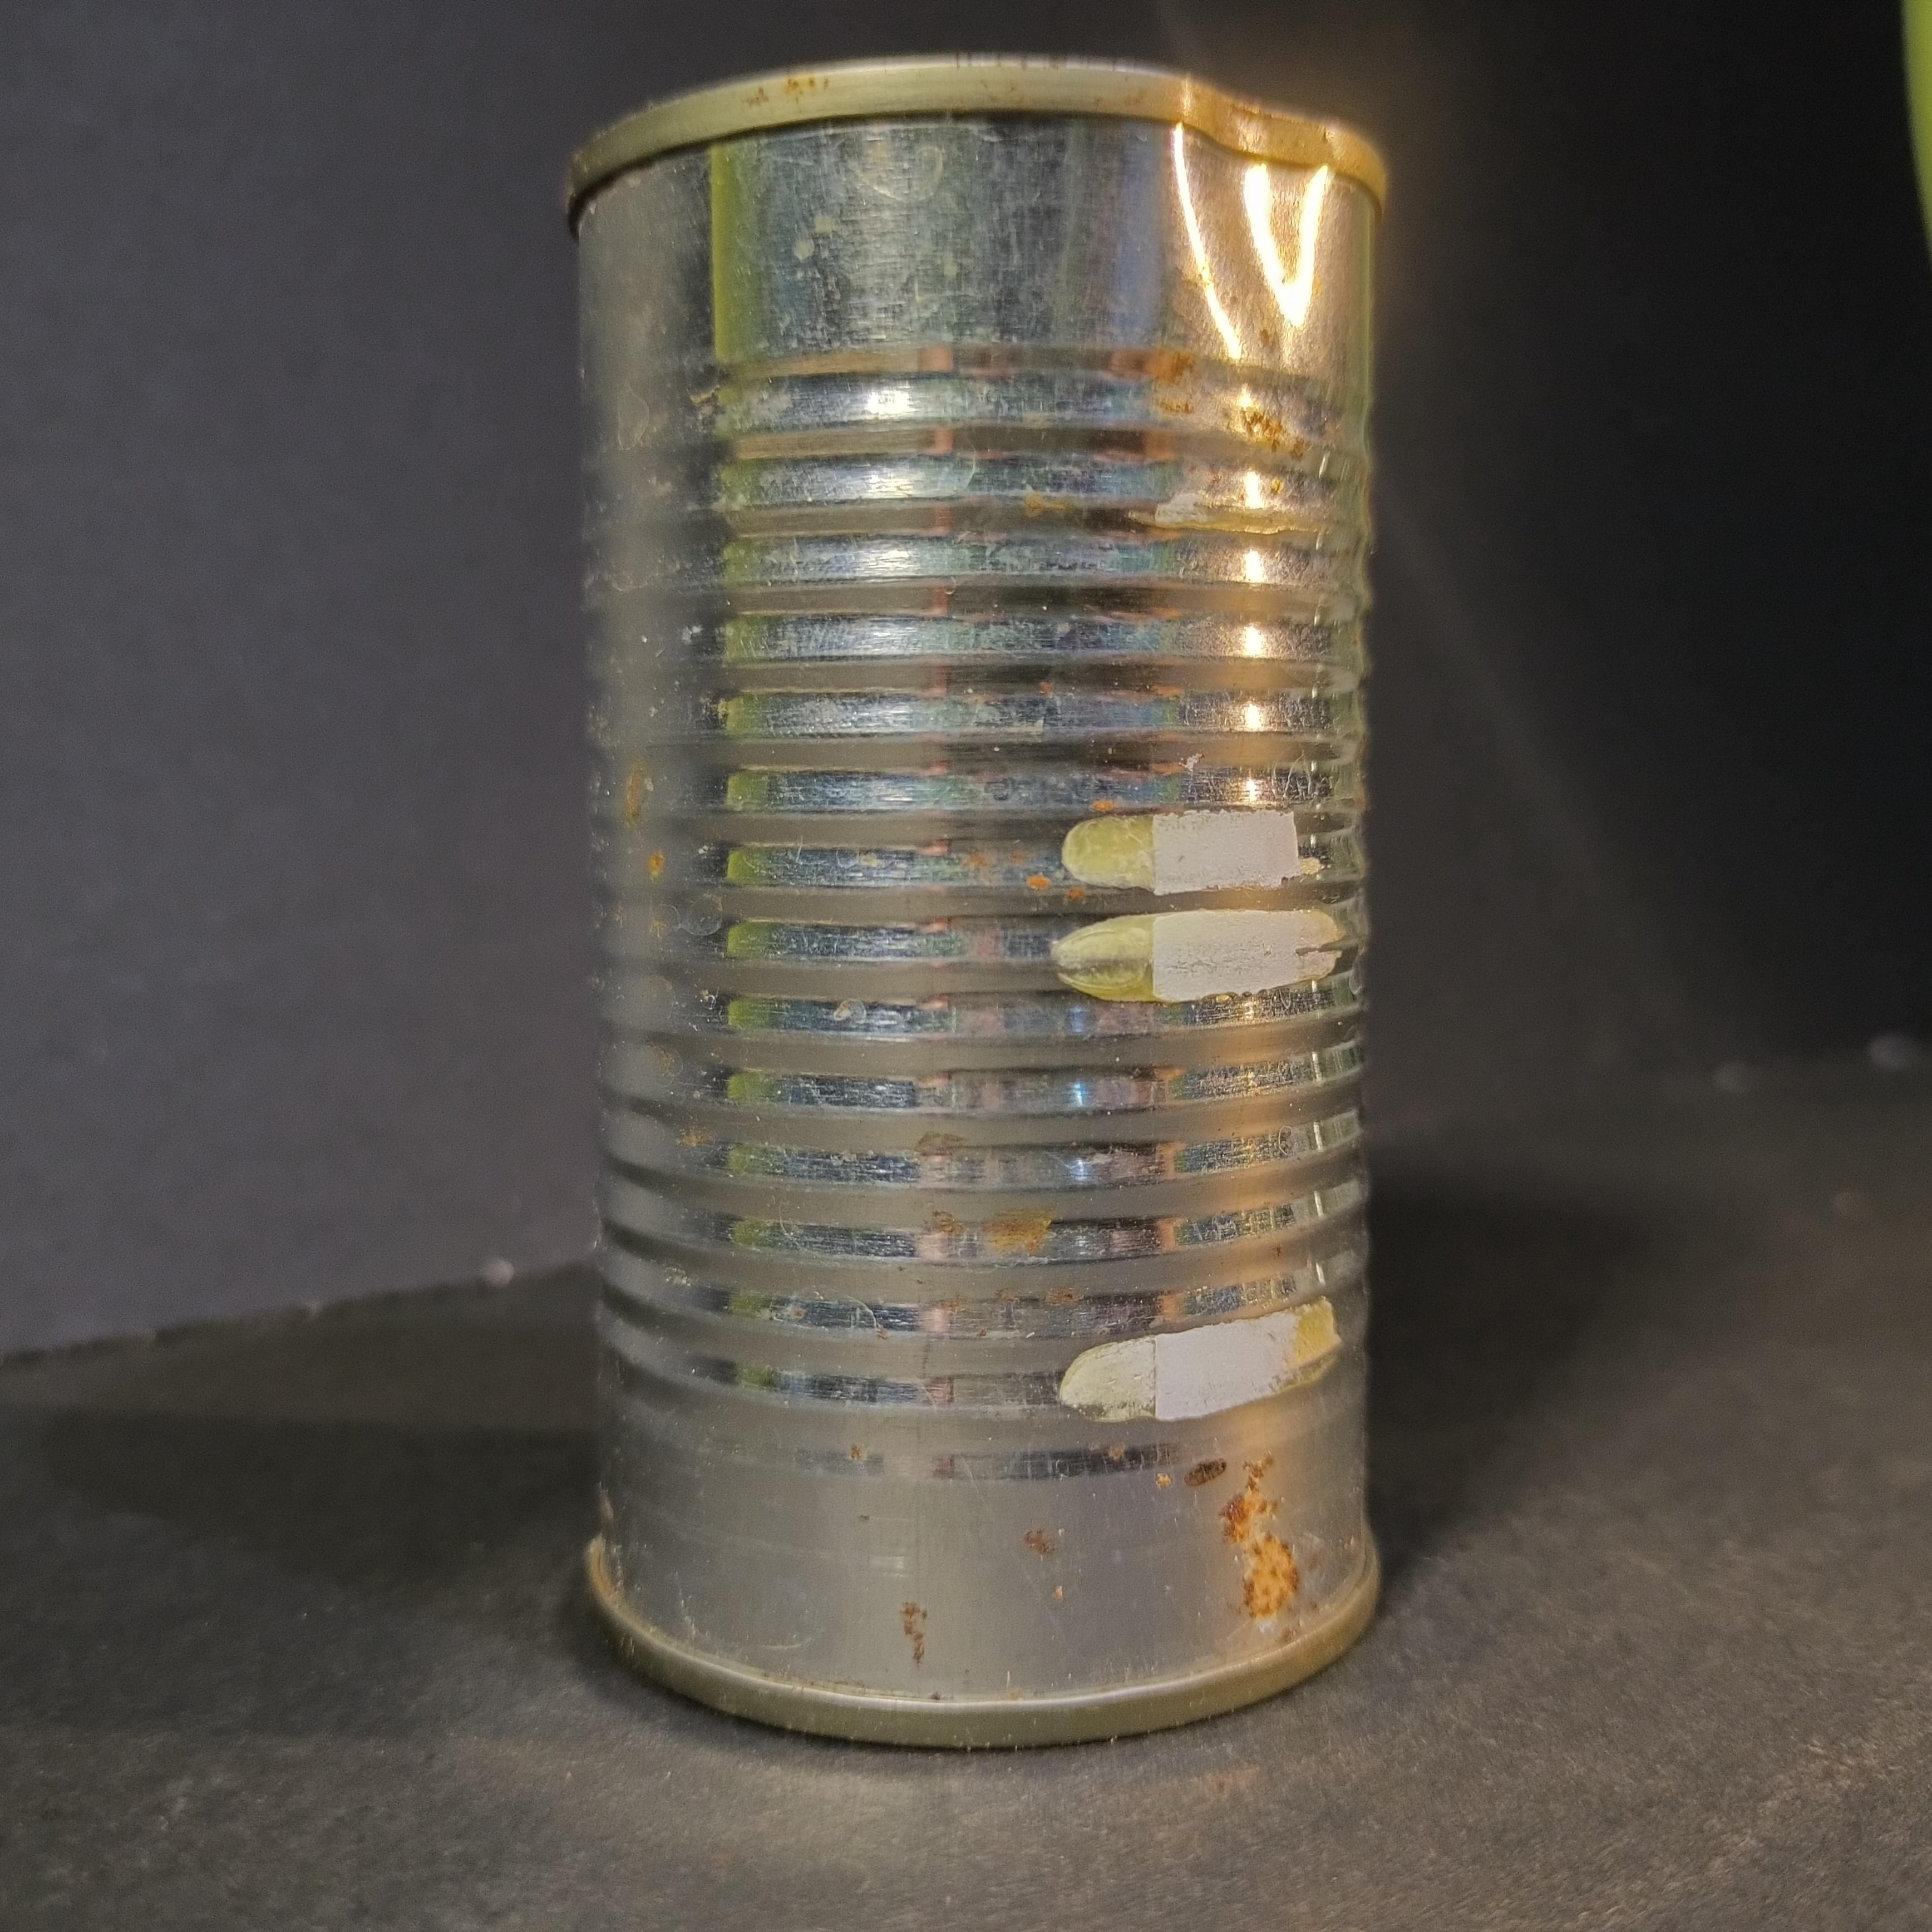Dented: (531, 25, 1444, 1780)
